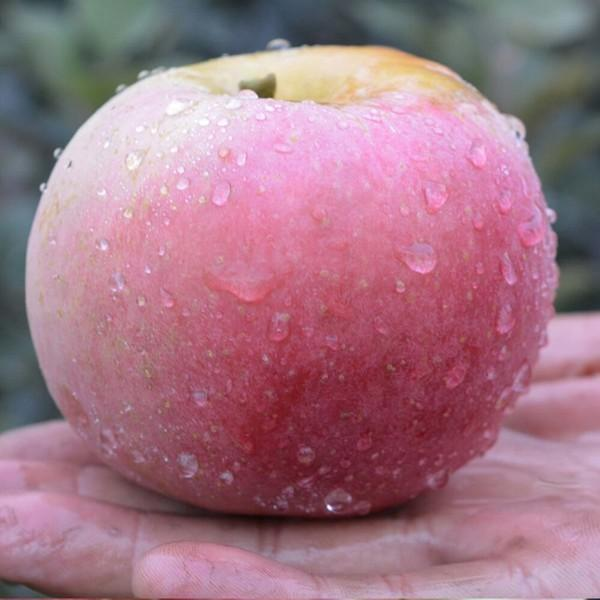apple: (20, 40, 560, 520)
